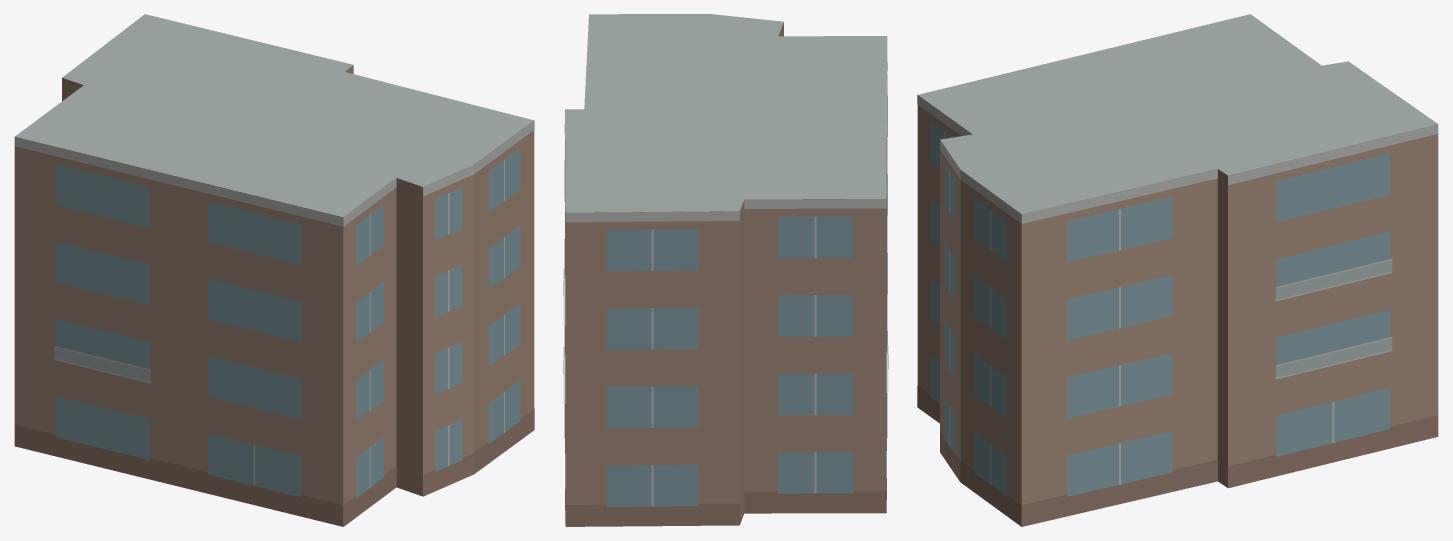
The model's file is survey-upis-32614676.glb.
3 renders of one model, left to right at view 1: azimuth 30°, elevation 25°; view 2: azimuth 150°, elevation 25°; view 3: azimuth 270°, elevation 25°, orthographic.
Parts seen in each view (by area): view 1: survey-upis-32614676.tmp; view 2: survey-upis-32614676.tmp; view 3: survey-upis-32614676.tmp.
Part boxes in pixels (<box>): survey-upis-32614676.tmp: <box>14,14,534,526</box>; survey-upis-32614676.tmp: <box>563,14,888,526</box>; survey-upis-32614676.tmp: <box>917,14,1438,526</box>.
Size of the model in its own units: 10.86 by 7.9 by 11.94.
